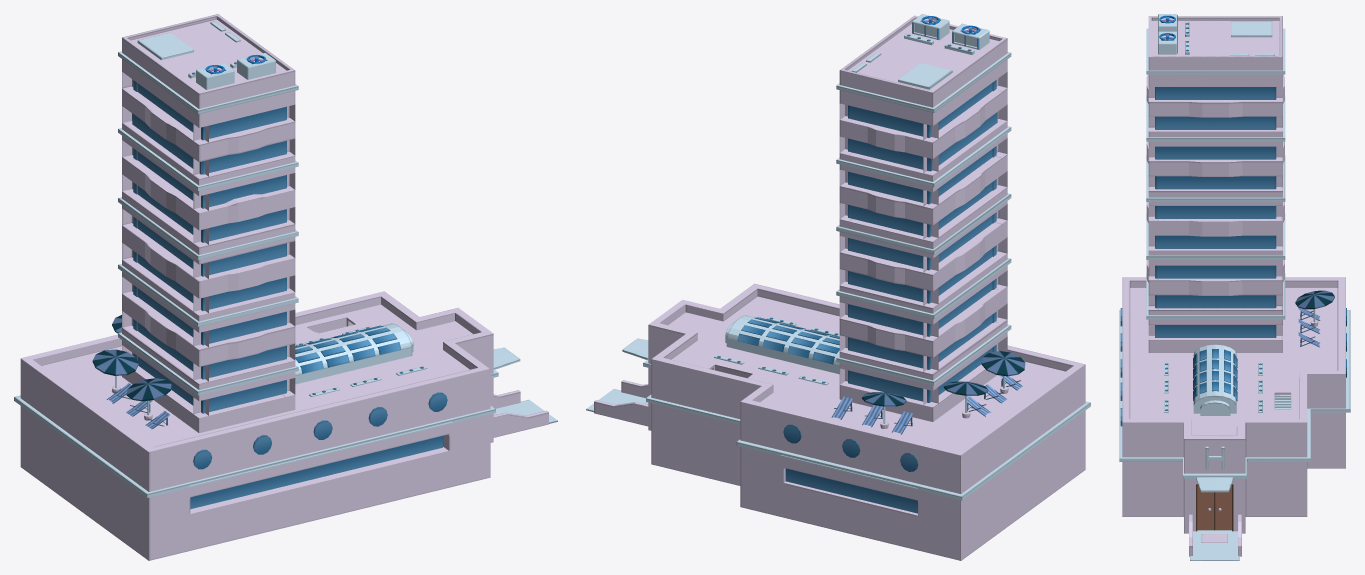
Rendered from hotel.glb.
The picture shows the model from 3 angles, left to right: view 1: azimuth 30°, elevation 25°; view 2: azimuth 150°, elevation 25°; view 3: azimuth 270°, elevation 25°; orthographic projection. The views are drawn at different scales.
Visible parts, largest first — view 1: Node; view 2: Node; view 3: Node.
Boxes of the visible parts, <box> form: Node: <box>14,14,557,560</box>; Node: <box>586,14,1090,560</box>; Node: <box>1119,14,1350,560</box>.
Bounding box in the file's own units: 676 × 645 × 345.
Materials: 1 (1 with a texture image).
